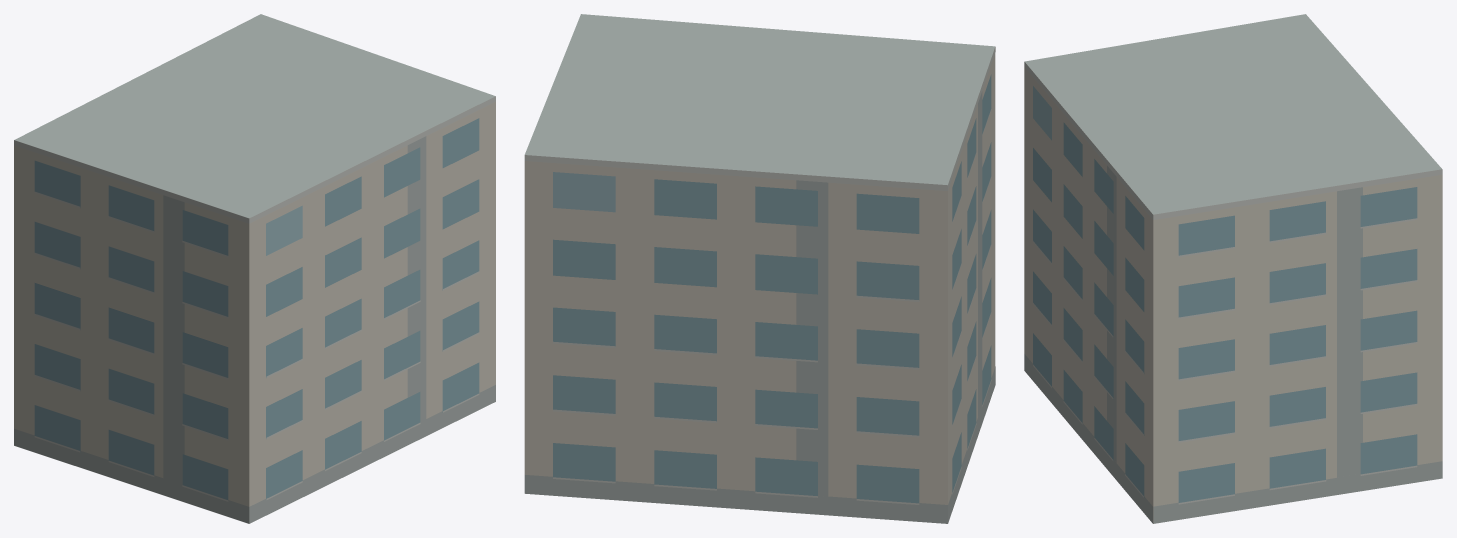
File: survey-upis-32839625.glb
The picture shows the model from 3 angles, left to right: view 1: azimuth 30°, elevation 25°; view 2: azimuth 150°, elevation 25°; view 3: azimuth 270°, elevation 25°; orthographic projection. The views are drawn at different scales.
Visible parts, largest first — view 1: survey-upis-32839625.tmp; view 2: survey-upis-32839625.tmp; view 3: survey-upis-32839625.tmp.
Boxes of the visible parts, x1,y1,x2,y2 form: survey-upis-32839625.tmp: (14, 14, 495, 523); survey-upis-32839625.tmp: (524, 14, 995, 523); survey-upis-32839625.tmp: (1024, 14, 1442, 523).
Size of the model in its own units: 19.36 by 13.9 by 17.04.
